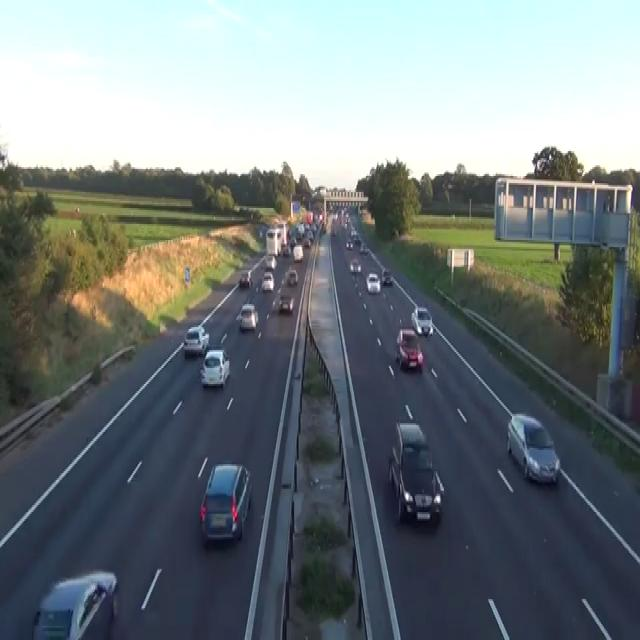Car: (31, 569, 118, 638), (388, 420, 444, 524), (199, 462, 252, 544), (506, 412, 560, 483), (395, 327, 423, 372), (200, 348, 230, 388), (183, 324, 209, 356), (410, 306, 433, 336), (235, 302, 258, 331), (366, 272, 380, 293), (278, 295, 294, 313), (261, 270, 274, 292), (239, 270, 252, 288), (286, 268, 298, 286), (292, 244, 303, 262), (349, 258, 361, 274), (381, 268, 392, 284), (265, 254, 276, 268), (359, 242, 368, 254), (289, 237, 297, 250), (350, 228, 358, 240), (282, 245, 290, 256), (303, 237, 311, 247), (330, 222, 336, 235), (345, 240, 353, 249), (258, 226, 265, 236), (354, 233, 361, 243), (330, 228, 336, 236), (321, 224, 326, 233), (258, 228, 262, 236), (74, 206, 79, 212)
